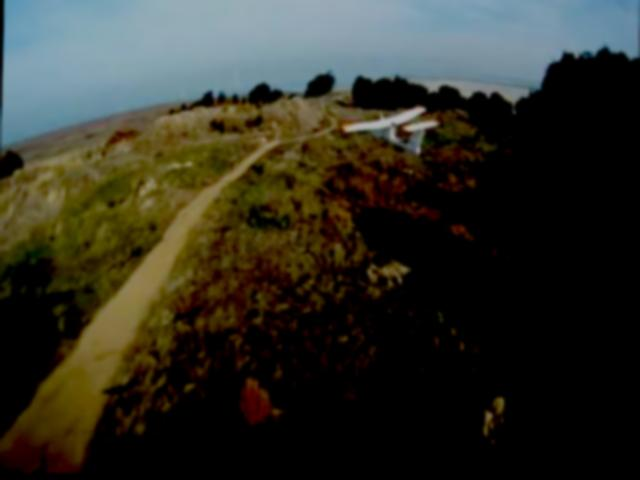uav: (334, 93, 442, 174)
